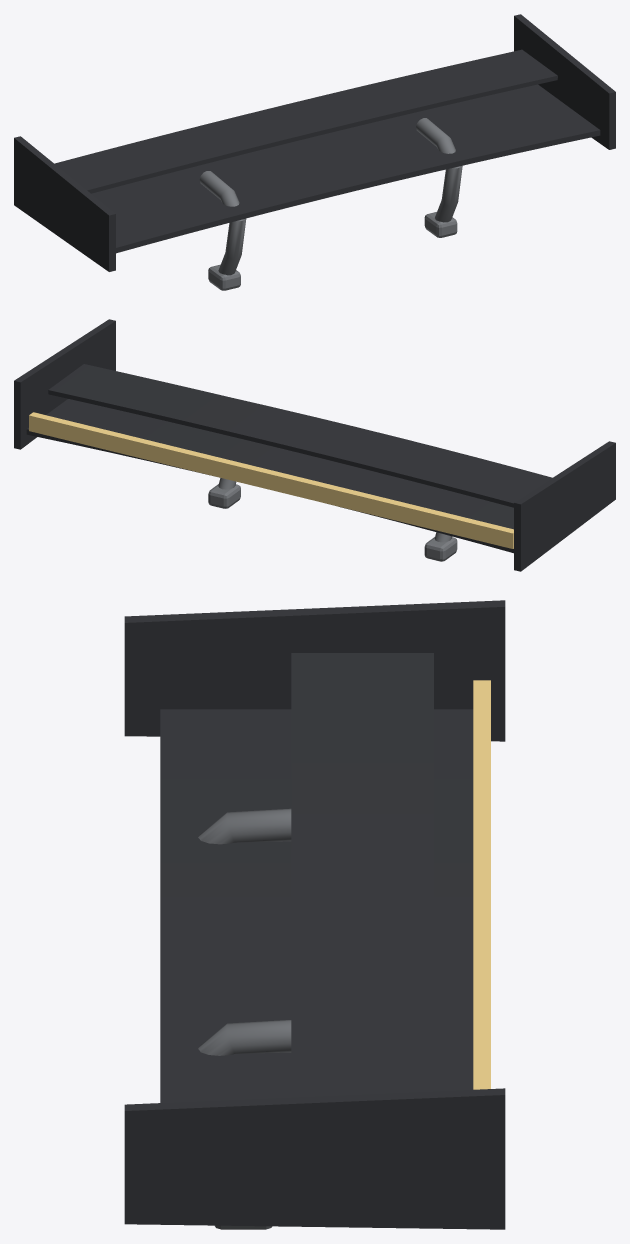
File: wing_gt.fbx
3 views of the same model, one above another, from view 1: azimuth 30°, elevation 25°; view 2: azimuth 150°, elevation 25°; view 3: azimuth 270°, elevation 25° (orthographic). The views are drawn at different scales.
Visible parts, largest first — view 1: carbon_1, gun_1; view 2: carbon_1, gold_1, gun_1; view 3: carbon_1, gold_1, gun_1.
Part boxes in pixels (<box>): carbon_1: <box>14,14,615,271</box>; gun_1: <box>199,118,462,290</box>; carbon_1: <box>14,319,615,571</box>; gold_1: <box>29,412,513,548</box>; gun_1: <box>208,478,457,561</box>; carbon_1: <box>124,600,505,1229</box>; gold_1: <box>473,680,490,1089</box>; gun_1: <box>198,808,291,1229</box>.
Size of the model in its own units: 0.1816 by 0.0461 by 0.0591.
